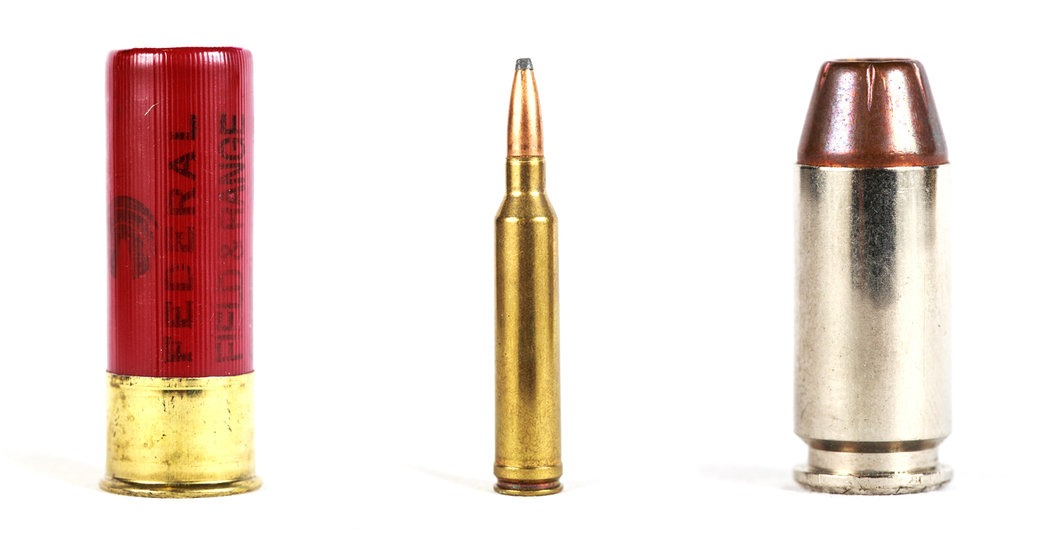bullet: (96, 39, 266, 503), (794, 52, 959, 500), (484, 50, 570, 505)
